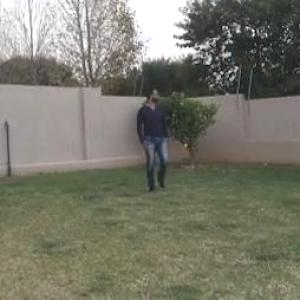follow: (143, 86, 171, 196)
